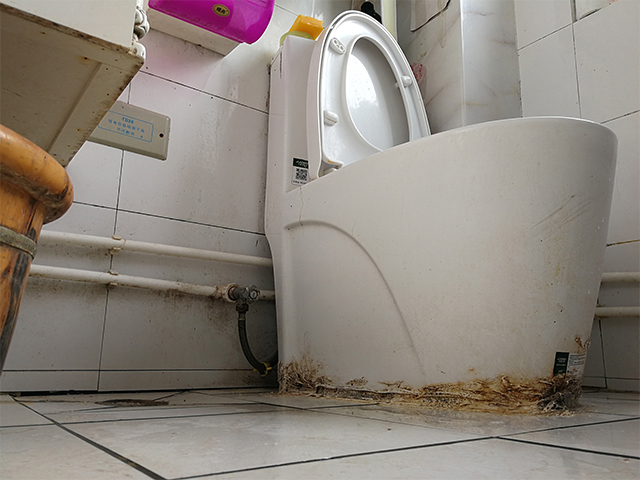closetool: (262, 8, 620, 417)
